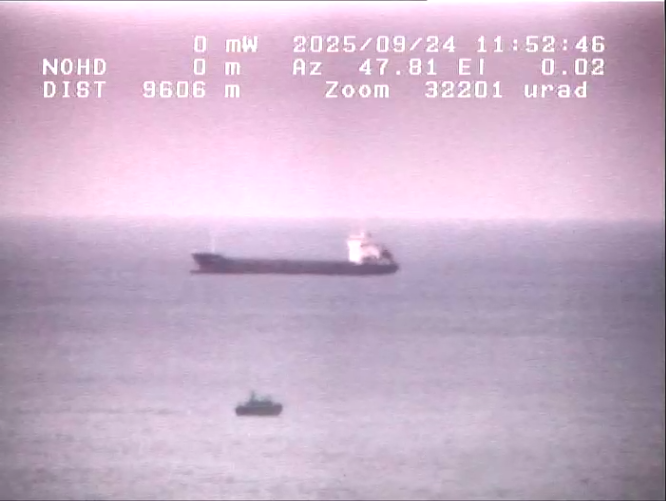TANKER: (179, 212, 409, 283)
TUGS: (229, 384, 293, 426)
